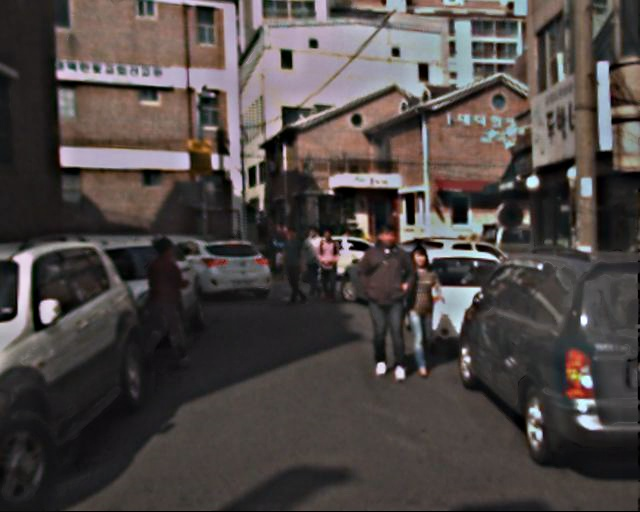person: (356, 225, 420, 381), (393, 243, 448, 378), (140, 235, 195, 369), (279, 227, 311, 305), (315, 225, 347, 303), (300, 227, 328, 295), (268, 220, 288, 269)
